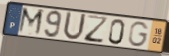0: (107, 18, 127, 46)
9: (43, 9, 63, 40)
G: (128, 20, 151, 48)
M: (16, 6, 45, 38)
U: (62, 10, 88, 42)
Z: (84, 14, 110, 45)
